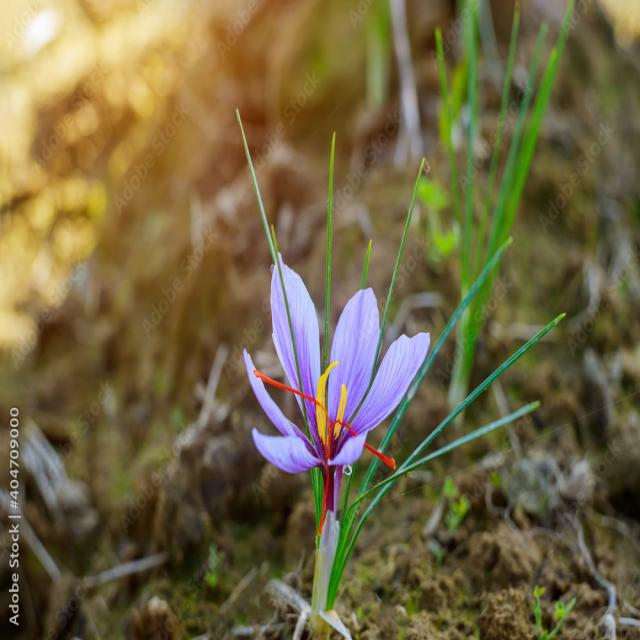saffron open: (243, 253, 431, 475)
